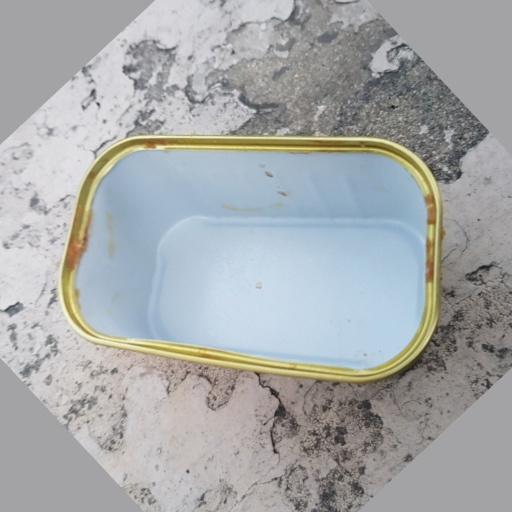Metal_2: (60, 134, 445, 381)
